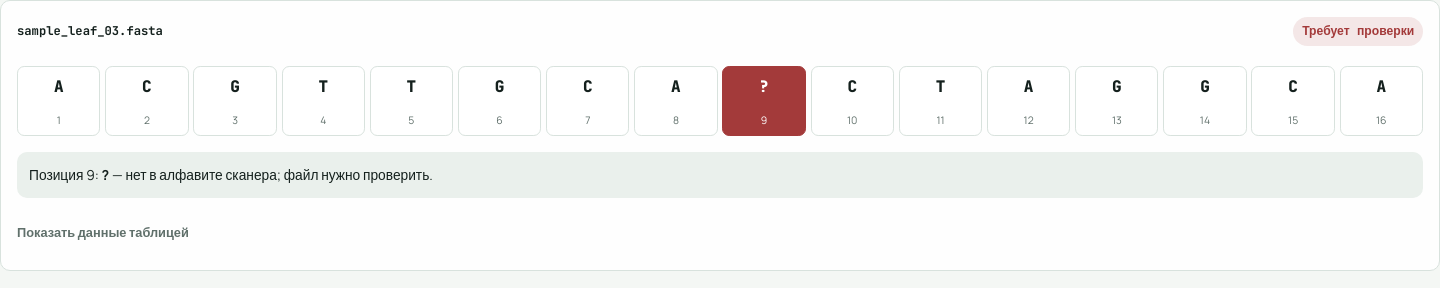
Scenario: mission visualizations › lets a learner inspect individual sequence positions
The width and height of the screenshot is (1440, 288).
Expected: the message shows "Позиция 9", [17,152,1423,198]
Click the button named "Позиция 1: символ A" at (59,101), box [17,66,100,136]
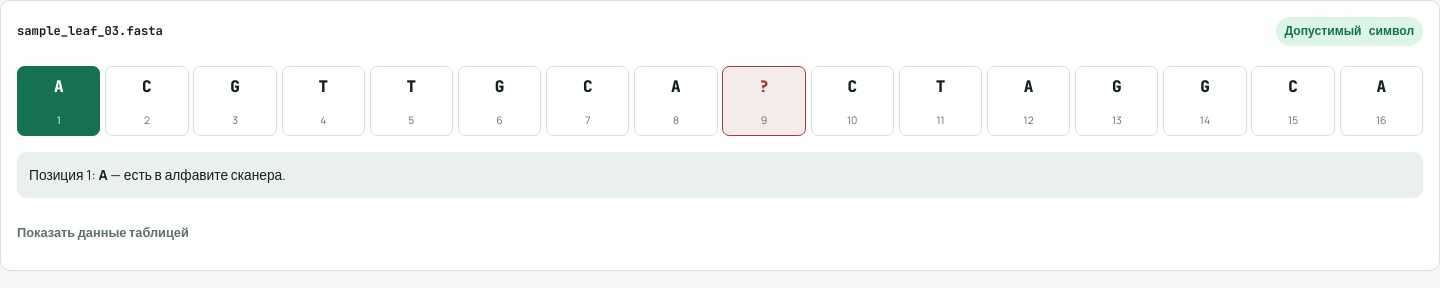
Now the message shows "есть в алфавите", box [124,165,286,184]
